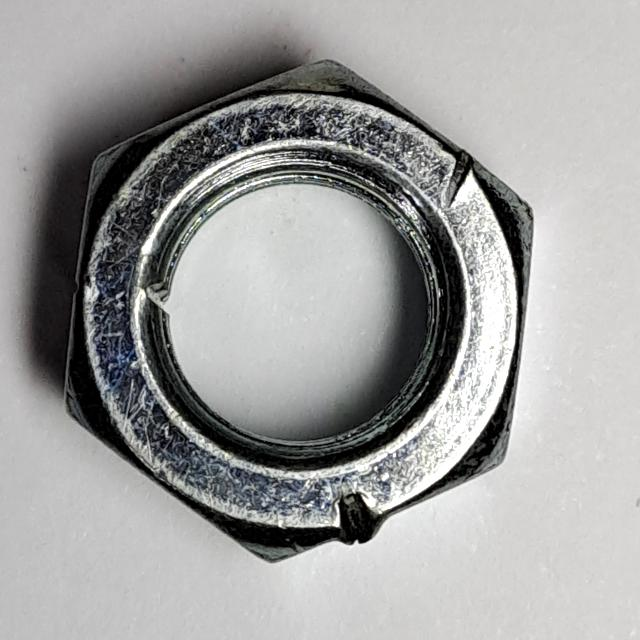Scratches: (58, 51, 546, 576)
